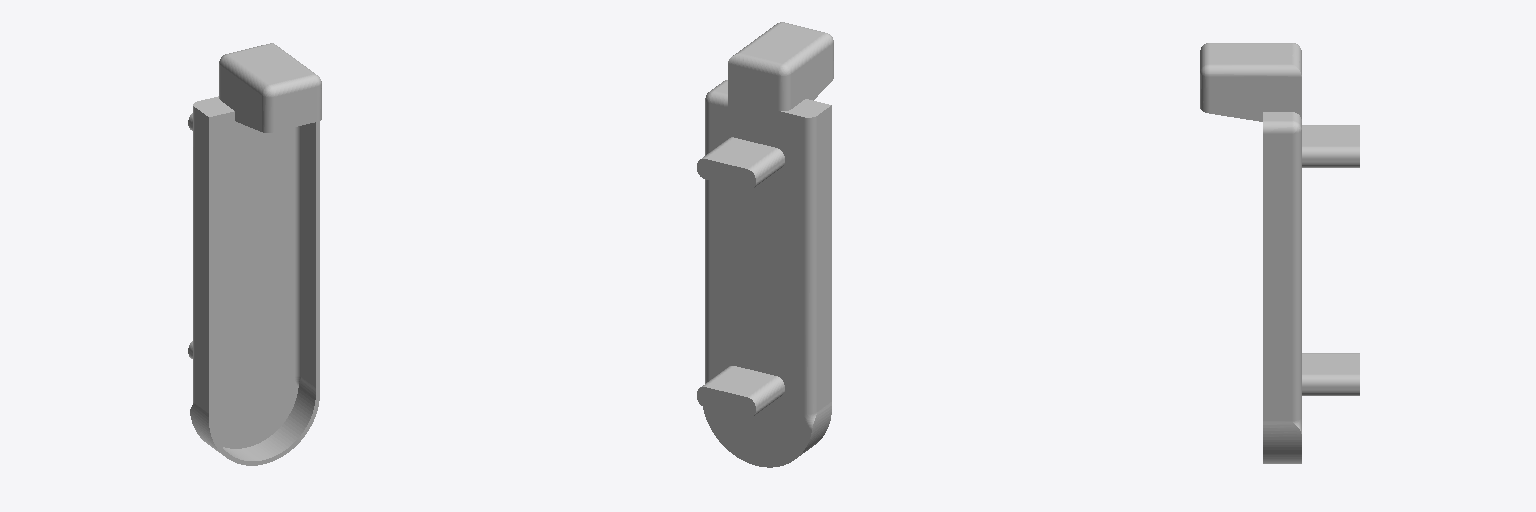
File: basket.obj
3 views of the same model, side by side, from view 1: azimuth 30°, elevation 25°; view 2: azimuth 150°, elevation 25°; view 3: azimuth 270°, elevation 25° (orthographic).
Visible parts, largest first — view 1: mesh54, mesh26, mesh44, mesh51, mesh55, mesh45, mesh10, mesh15, mesh3, mesh8, mesh29, mesh27 (+1 smaller); view 2: mesh72, mesh26, mesh29, mesh10, mesh15, mesh22, mesh80, mesh82, mesh83, mesh74, mesh8, mesh12 (+1 smaller); view 3: mesh21, mesh16, mesh22, mesh10, mesh27, mesh80, mesh82, mesh11, mesh75, mesh89.
Boxes of the visible parts, box(x1,y1,x2,y2) form: mesh54: box(213, 116, 298, 448); mesh26: box(195, 108, 208, 412); mesh44: box(301, 122, 315, 387); mesh51: box(209, 111, 319, 465); mesh55: box(223, 379, 315, 460); mesh45: box(294, 126, 300, 376); mesh10: box(229, 44, 311, 84); mesh15: box(221, 66, 261, 131); mesh3: box(275, 87, 316, 131); mesh8: box(221, 55, 269, 94); mesh29: box(193, 106, 194, 402); mesh27: box(190, 404, 223, 455); mesh72: box(703, 64, 811, 467); mesh26: box(817, 105, 831, 411); mesh29: box(804, 116, 816, 413); mesh10: box(742, 23, 823, 62); mesh15: box(791, 45, 831, 108); mesh22: box(705, 100, 709, 383); mesh80: box(706, 138, 775, 168); mesh82: box(706, 366, 775, 396); mesh83: box(697, 387, 755, 417); mesh74: box(697, 159, 755, 189); mesh8: box(783, 33, 831, 73); mesh12: box(728, 53, 782, 75); mesh21: box(1263, 134, 1291, 420); mesh16: box(1210, 77, 1301, 121); mesh22: box(1292, 130, 1301, 420); mesh10: box(1210, 44, 1291, 63); mesh27: box(1263, 422, 1301, 463); mesh80: box(1302, 126, 1359, 145); mesh82: box(1302, 354, 1359, 373); mesh11: box(1210, 64, 1301, 76); mesh75: box(1302, 146, 1359, 158); mesh89: box(1302, 374, 1359, 386).
Size of the model in its own units: 0.6629 by 2.3 by 0.825.